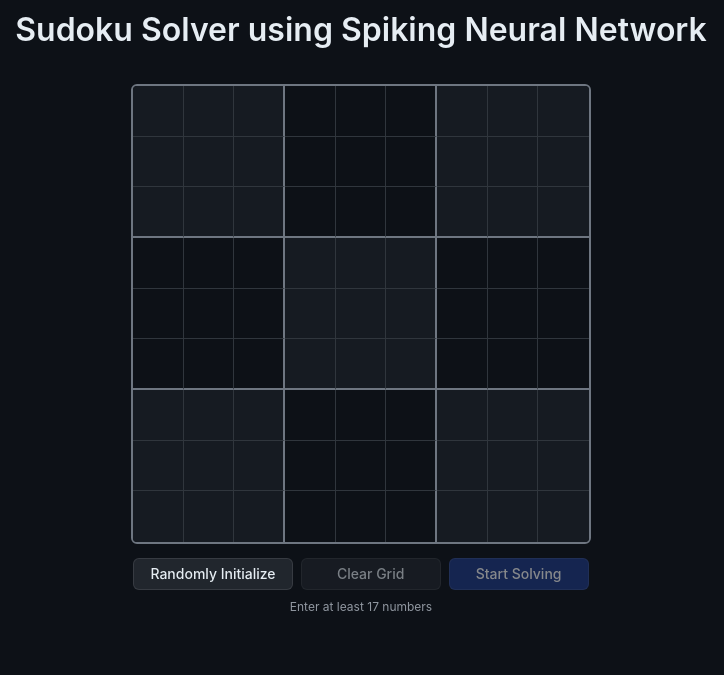
Test: App › flags duplicates in red and disables Start
The width and height of the screenshot is (724, 675).
Click the button "Randomly Initialize" at (213, 574), box left=133, top=558, right=293, bottom=590
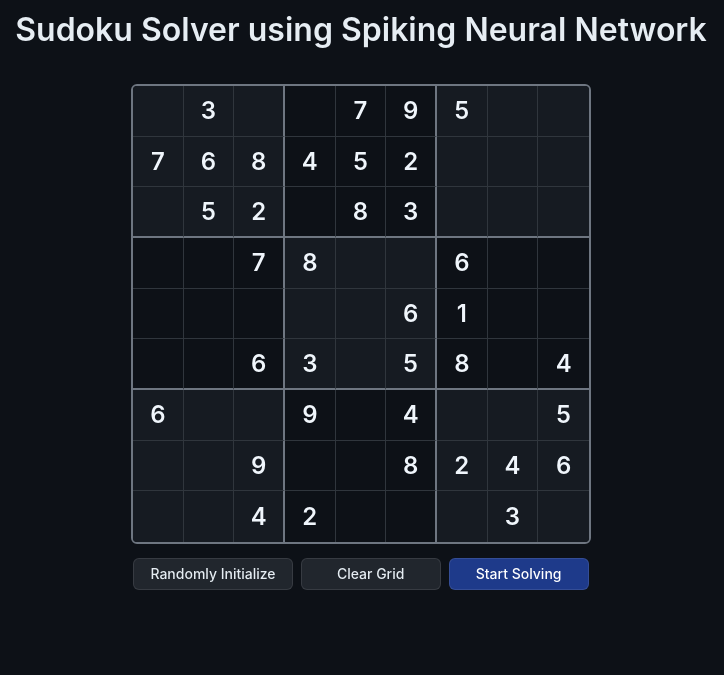
Press 3 in the field named "row 1 column 1", box left=133, top=86, right=183, bottom=136
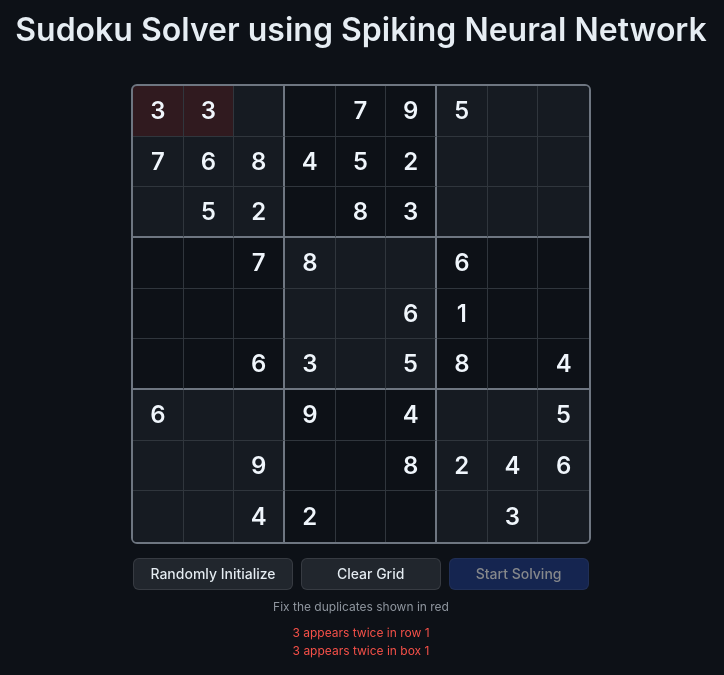
Now the button "Start Solving" is disabled, box left=449, top=558, right=589, bottom=590
Now the text "Fix the duplicates shown in red" is shown, box left=273, top=599, right=449, bottom=614
Now the list item "3 appears twice in row 1" is shown, box left=292, top=625, right=430, bottom=640
